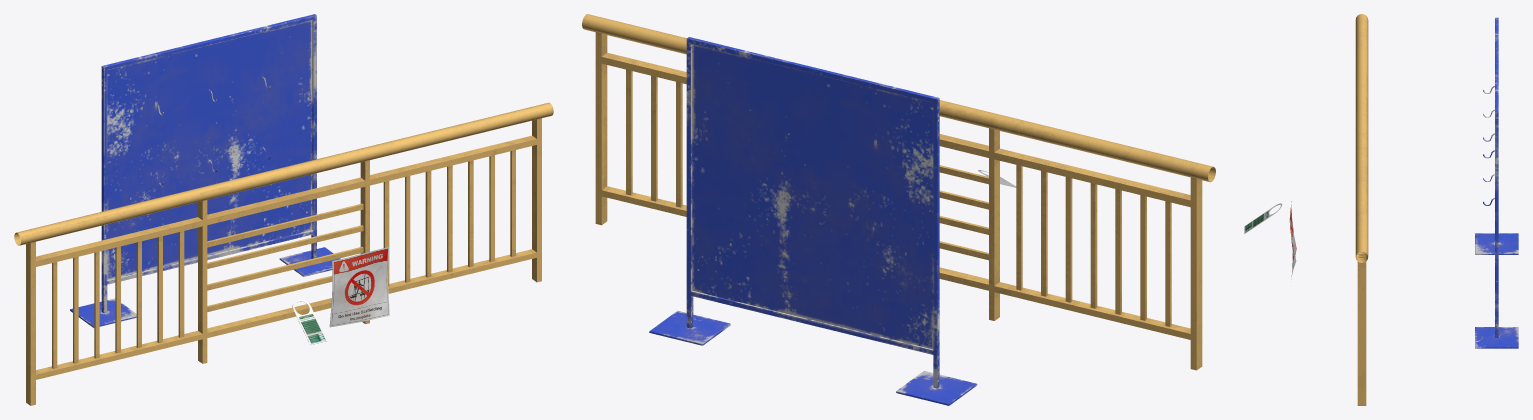
File: Scaffold Tag, Stand_01 (1)Updated.fbx
3 renders of one model, left to right at view 1: azimuth 30°, elevation 25°; view 2: azimuth 150°, elevation 25°; view 3: azimuth 270°, elevation 25°, orthographic. The views are drawn at different scales.
Visible parts, largest first — view 1: PPE Stand, Guard Rails, DO NOT USE SCAFFOLD TAG, Scaffold Tag; view 2: PPE Stand, Guard Rails; view 3: Guard Rails, PPE Stand, Scaffold Tag.
Boxes of the visible parts, box(x1,y1,x2,y2) form: PPE Stand: box(70, 14, 340, 327); Guard Rails: box(14, 102, 553, 405); DO NOT USE SCAFFOLD TAG: box(329, 247, 389, 327); Scaffold Tag: box(292, 299, 327, 344); PPE Stand: box(649, 37, 977, 405); Guard Rails: box(582, 14, 1215, 370); Guard Rails: box(1355, 14, 1368, 405); PPE Stand: box(1475, 17, 1518, 348); Scaffold Tag: box(1244, 203, 1282, 233).
Size of the model in its own units: 385 by 171 by 188.
1 material, 1 textured.
